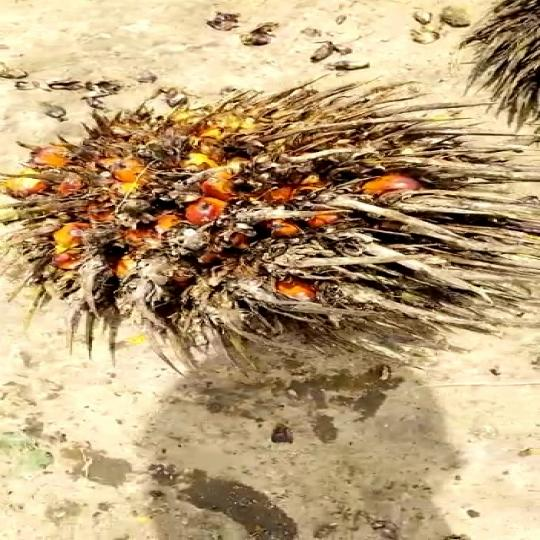terlalu masak: (0, 74, 540, 354)
